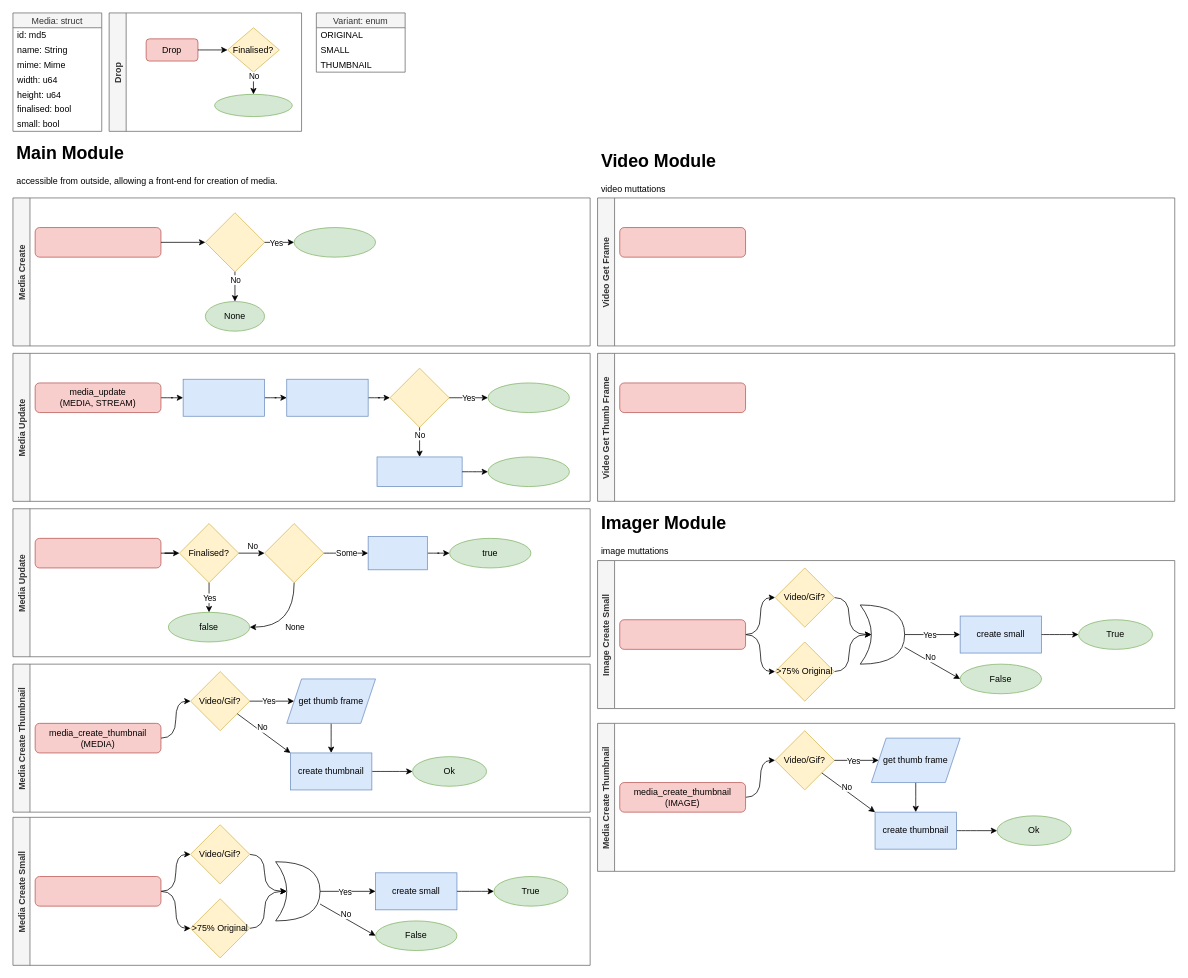
This 1188x978 diagram has some shape labels left out. The centre of each missing label's shape, as x and y in pixels:
"Create Variants" belongs at point 294,553.
"Delete Directory" belongs at point 253,105.
"Exists?" belongs at point 419,397.
"extract metadata store temporary" belongs at point 327,397.
"get_frame (VIDEO)" belongs at point 682,242.
"get_thumb_frame (VIDEO)" belongs at point 682,397.
"image_create_small (IMAGE)" belongs at point 682,634.
"media_create_small (MEDIA)" belongs at point 97,891.
"media_finalise (MEDIA, STREAM)" belongs at point 97,553.
"media_new (NAME, MIME, STREAM)" belongs at point 97,242.
"media_update" belongs at point 334,242.
"set finalised to false" belongs at point 223,397.
"set finalised to true" belongs at point 397,553.
"Some(duplicate)" belongs at point 528,397.
"Some(media)" belongs at point 528,471.
"store permanantly" belongs at point 419,471.
"Valid Type?" belongs at point 235,242.
